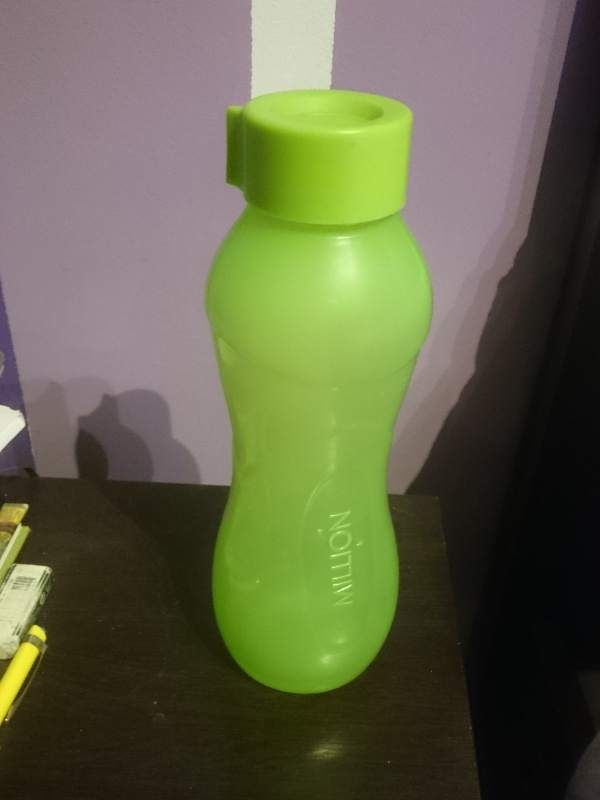my bottle: (199, 91, 429, 694)
